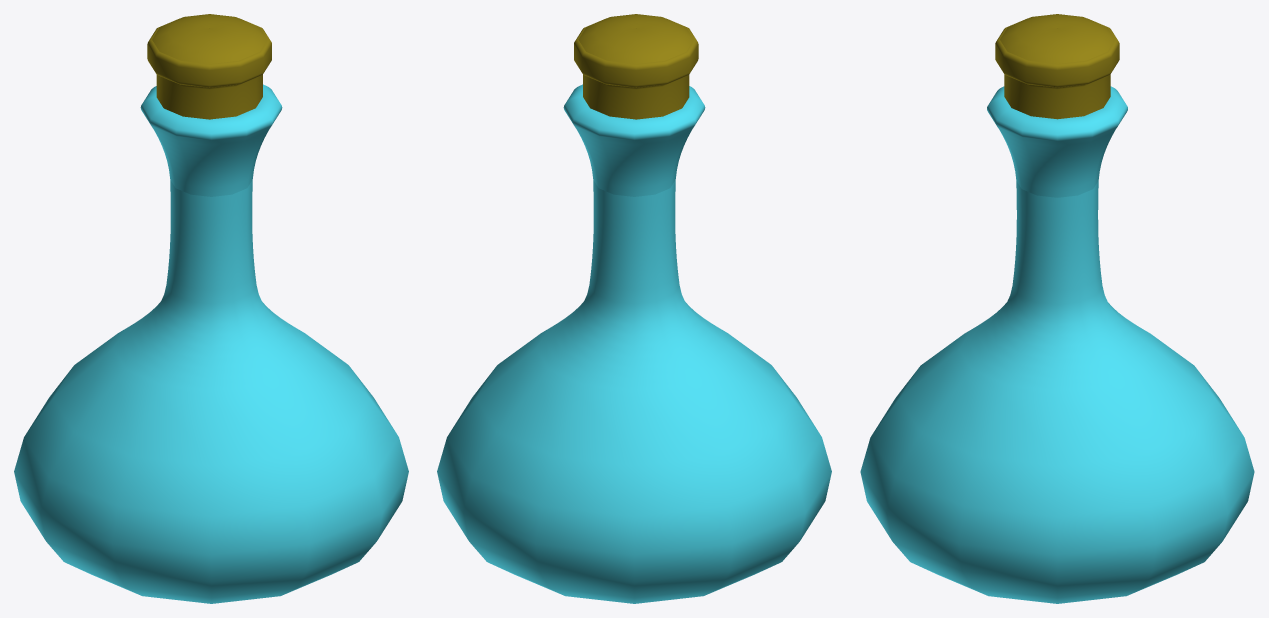
Rendered from potion12.FBX.
3 views of the same model, side by side, from view 1: azimuth 30°, elevation 25°; view 2: azimuth 150°, elevation 25°; view 3: azimuth 270°, elevation 25° (orthographic).
Visible parts, largest first — view 1: potion_12glass; view 2: potion_12glass; view 3: potion_12glass.
Part boxes in pixels (box(x1,y1,x2,y2)): potion_12glass: box(14, 14, 408, 603); potion_12glass: box(437, 14, 831, 603); potion_12glass: box(860, 14, 1254, 603).
Bounding box in the file's own units: 32.03 × 48.46 × 32.03.
